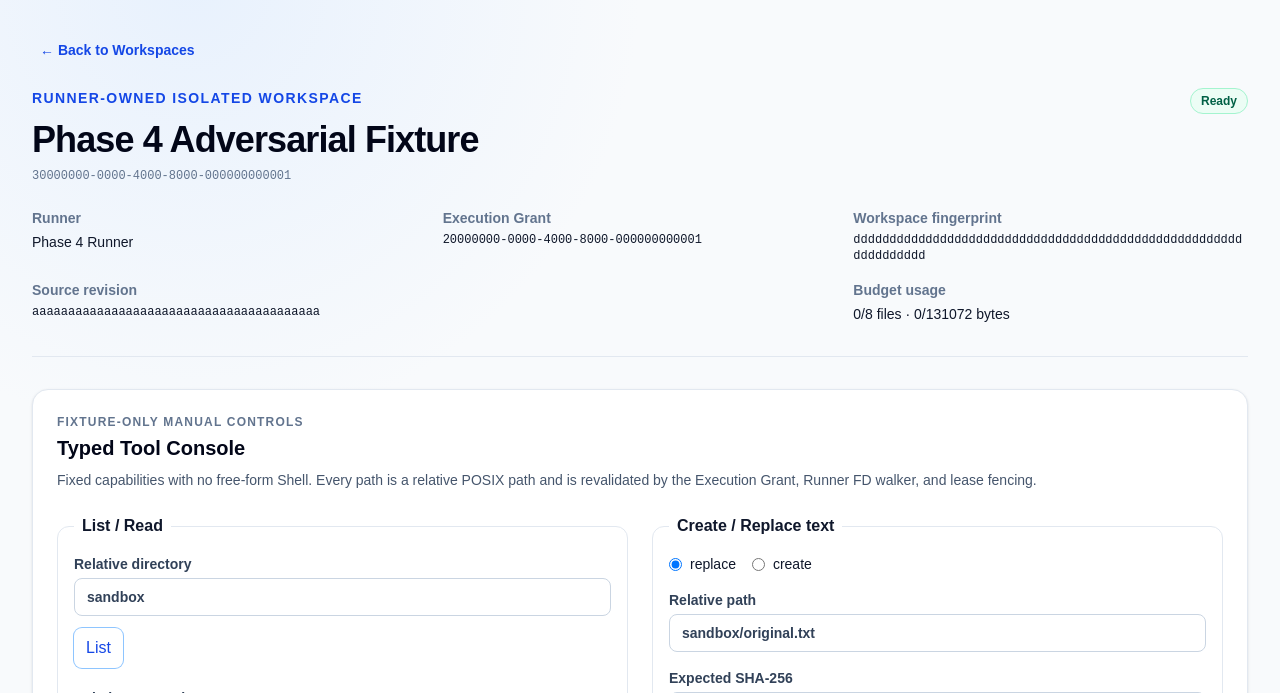
Phase 4 browser surfaces › keeps a typed action denial visible after refreshing durable state
Expected: the heading "Typed Tool Console" is shown, [57,437,245,459]
Click the radio button labelled "create" at (758, 564), box [752,558,765,570]
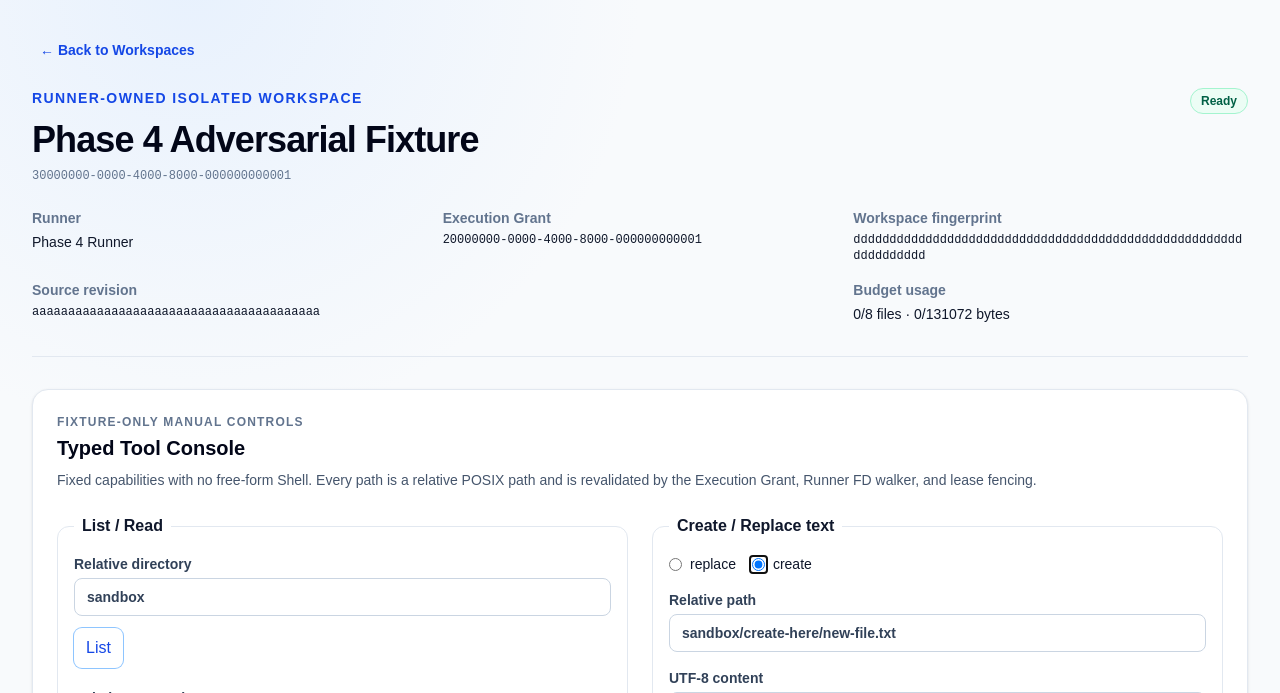
Replace the text in the field labelled "Relative path" with "sandbox/.env" at (938, 633), box [669,614,1206,652]
(page scrolled)
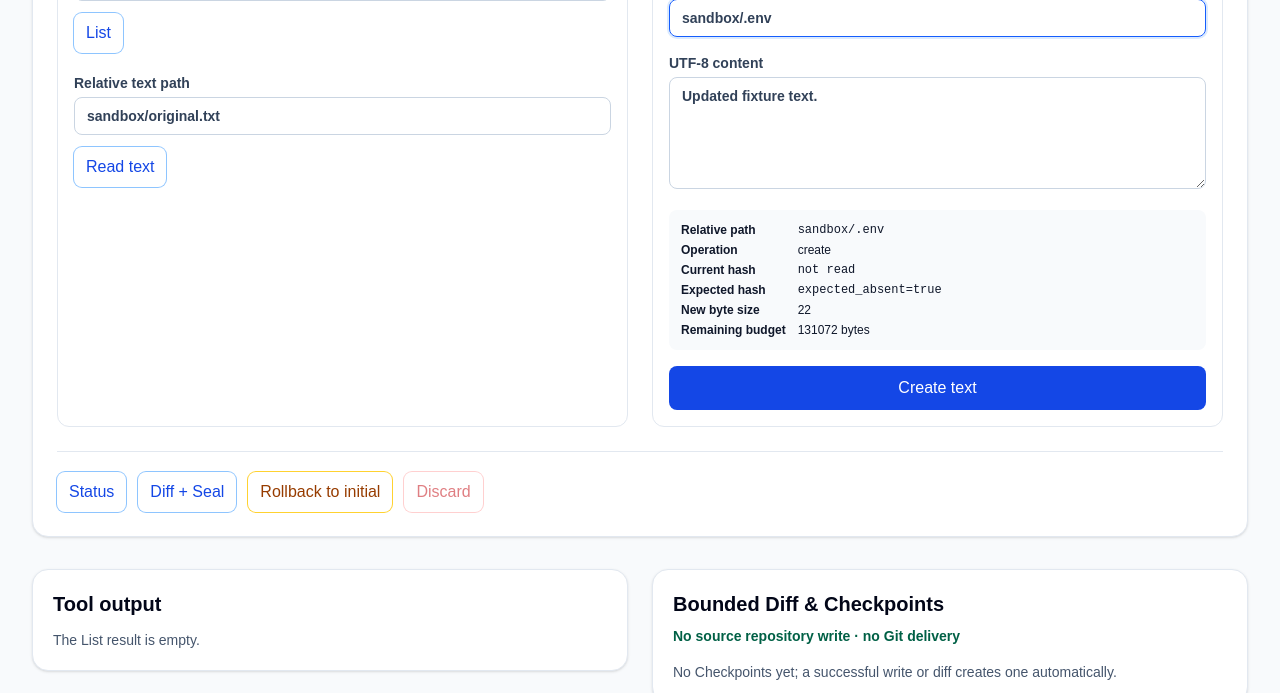
Click the button "Create text" at (938, 388), box [669,366,1206,410]
(page scrolled)
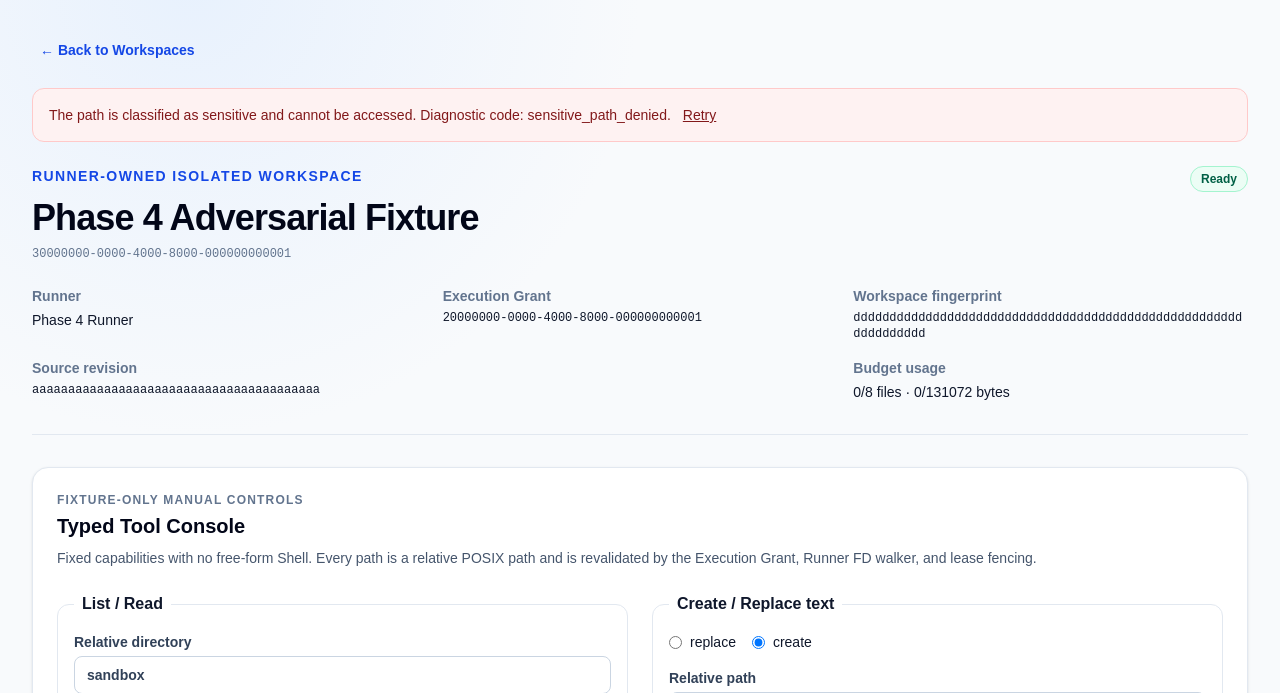
Expected: the message shows "sensitive_path_denied", [49,107,671,123]
